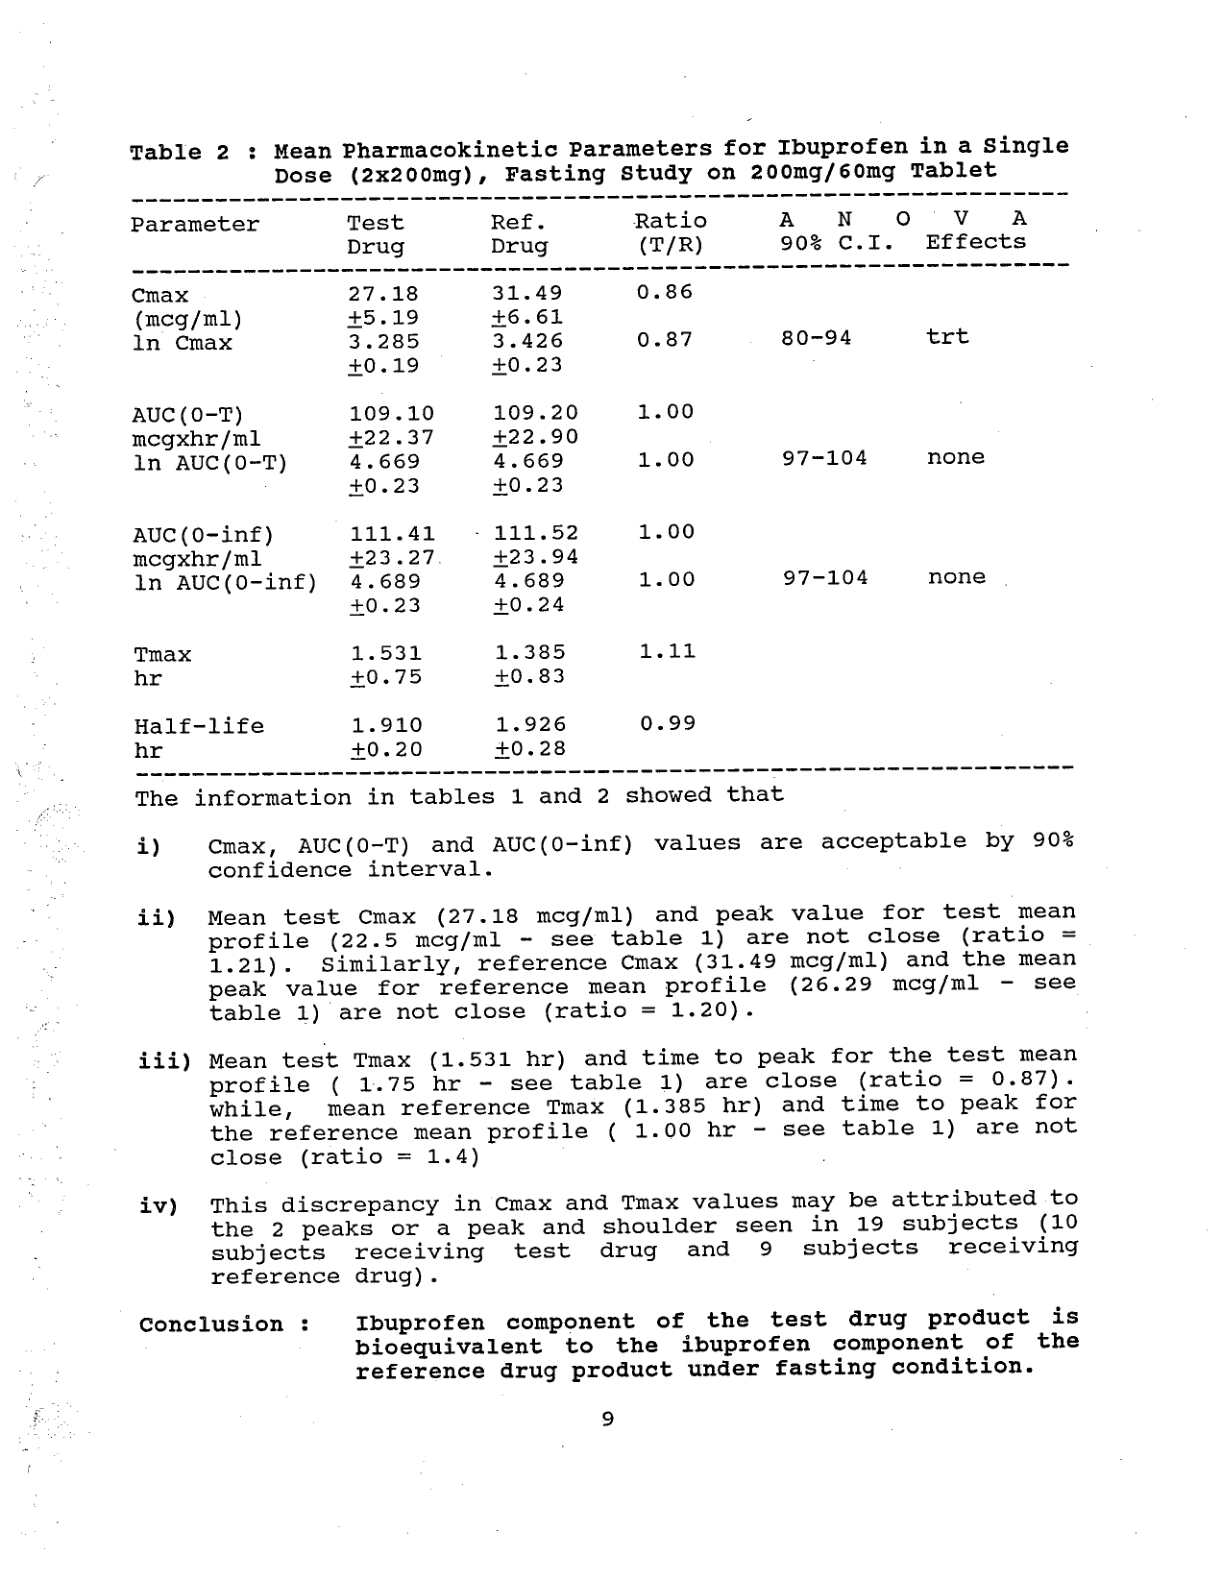partial_lined: (127, 188, 1078, 778)
